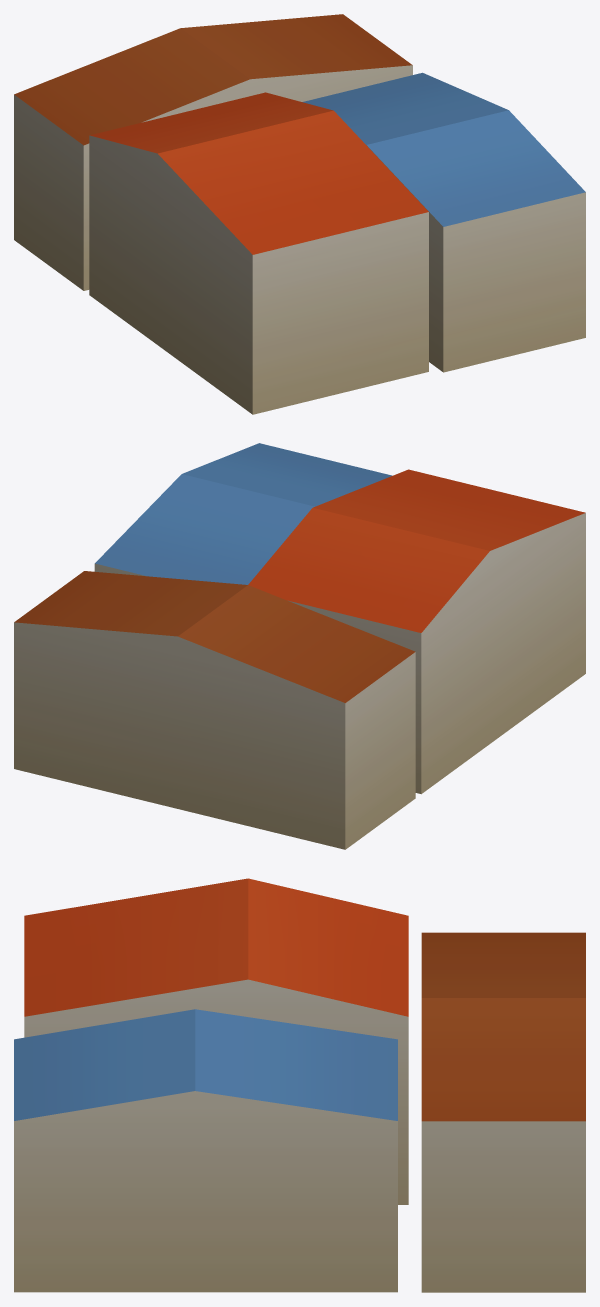
File: SM_Blockout_Building_02.fbx
3 views of the same model, one above another, from view 1: azimuth 30°, elevation 25°; view 2: azimuth 150°, elevation 25°; view 3: azimuth 270°, elevation 25° (orthographic). The views are drawn at different scales.
Visible parts, largest first — view 1: SM_Blockout_Building_02; view 2: SM_Blockout_Building_02; view 3: SM_Blockout_Building_02.
Part boxes in pixels (left/top/right/bottom): SM_Blockout_Building_02: left=14, top=14, right=585, bottom=414; SM_Blockout_Building_02: left=14, top=443, right=585, bottom=849; SM_Blockout_Building_02: left=14, top=878, right=585, bottom=1292.
Size of the model in its own units: 1.99 by 1.11 by 2.55.
